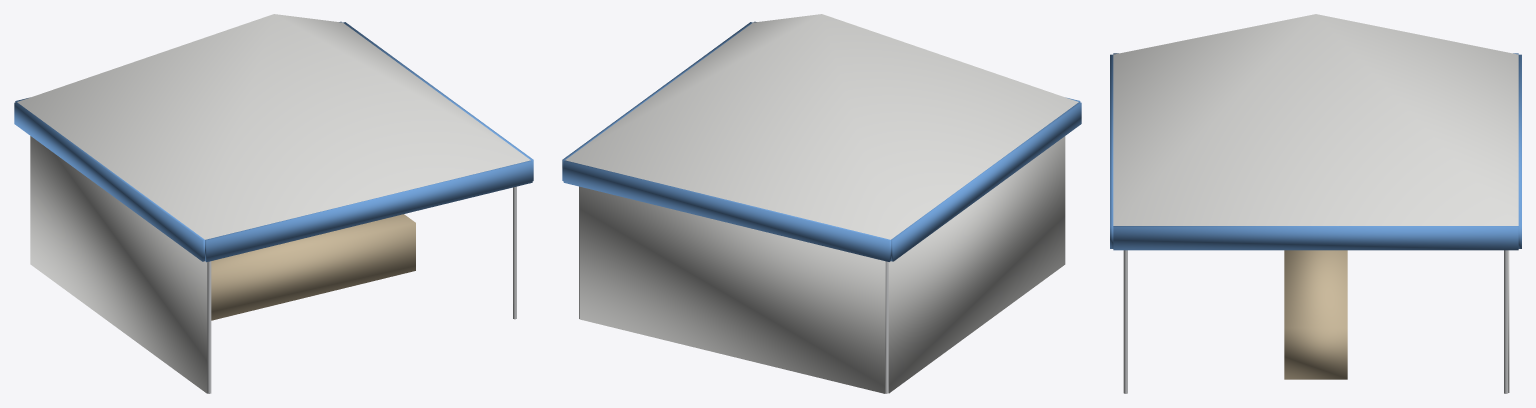
Rendered from tent_6m.glb.
The picture shows the model from 3 angles, left to right: view 1: azimuth 30°, elevation 25°; view 2: azimuth 150°, elevation 25°; view 3: azimuth 270°, elevation 25°; orthographic projection. The views are drawn at different scales.
Parts seen in each view (by area): view 1: tent_6m; view 2: tent_6m; view 3: tent_6m.
Boxes of the visible parts, <box> form: tent_6m: <box>14,14,533,393</box>; tent_6m: <box>562,14,1081,393</box>; tent_6m: <box>1110,14,1521,393</box>.
Bounding box in the file's own units: 6.5 × 5.2 × 6.5.
